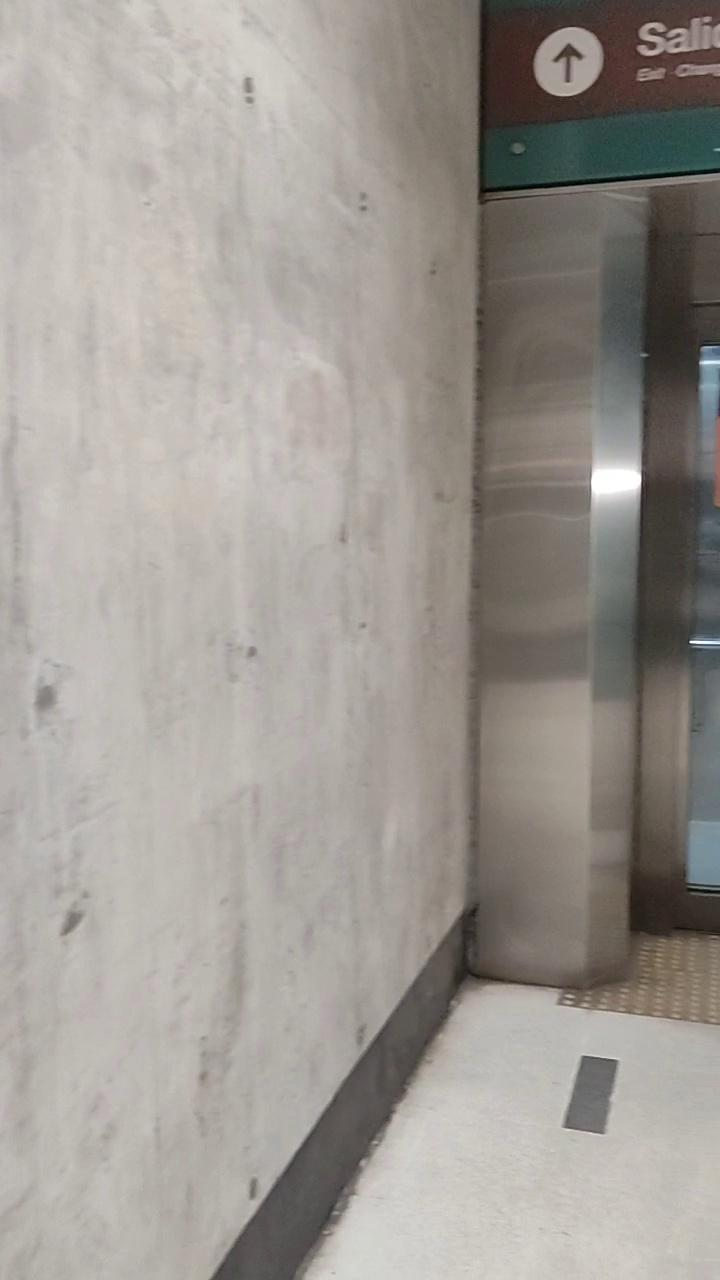up arrow: (550, 40, 586, 86)
